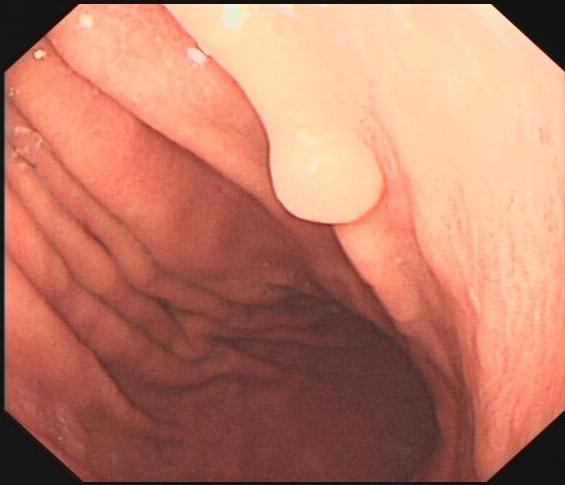Polyp: (267, 131, 395, 229)
